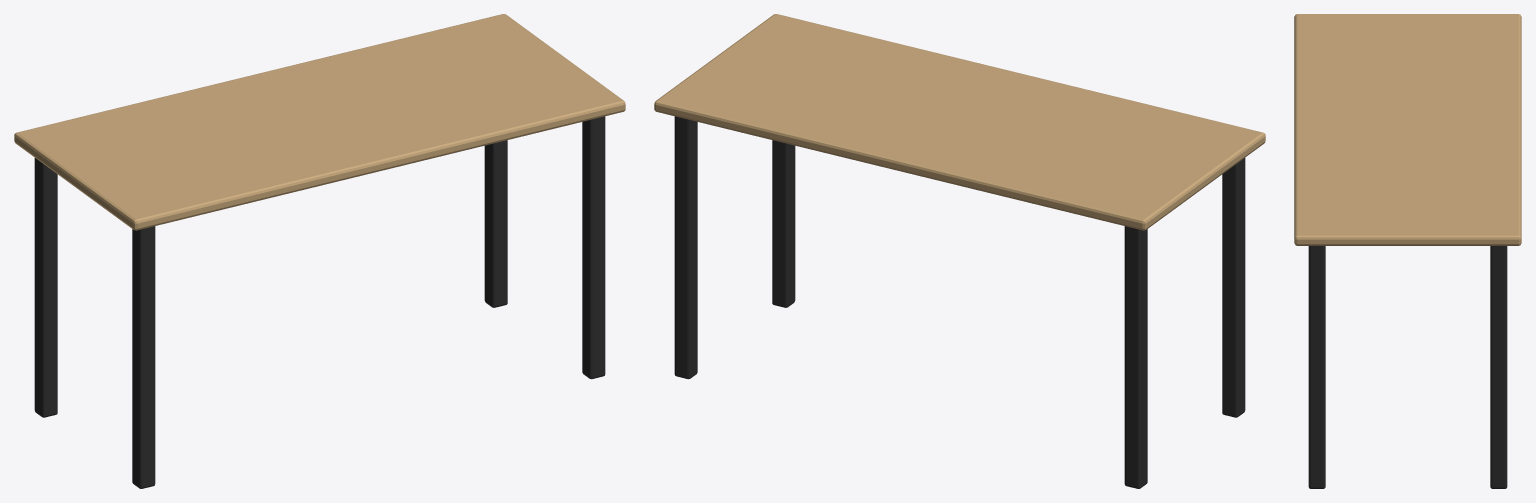
The model's file is desk.glb.
3 renders of one model, left to right at view 1: azimuth 30°, elevation 25°; view 2: azimuth 150°, elevation 25°; view 3: azimuth 270°, elevation 25°, orthographic. The views are drawn at different scales.
Visible parts, largest first — view 1: top.005, leg-1-1.009, leg1-1.009, leg-11.009, leg11.009; view 2: top.005, leg-11.009, leg11.009, leg-1-1.009, leg1-1.009; view 3: top.005, leg1-1.009, leg11.009.
Part boxes in pixels (bbox=[...]): top.005: bbox=[14, 14, 625, 230]; leg-1-1.009: bbox=[132, 226, 155, 488]; leg1-1.009: bbox=[582, 116, 605, 379]; leg-11.009: bbox=[34, 158, 57, 417]; leg11.009: bbox=[484, 140, 507, 307]; top.005: bbox=[654, 14, 1265, 230]; leg-11.009: bbox=[1124, 226, 1147, 488]; leg11.009: bbox=[674, 116, 697, 379]; leg-1-1.009: bbox=[1222, 158, 1245, 417]; leg1-1.009: bbox=[772, 140, 795, 307]; top.005: bbox=[1294, 14, 1521, 245]; leg1-1.009: bbox=[1308, 246, 1325, 488]; leg11.009: bbox=[1490, 246, 1507, 488].
Bounding box in the file's own units: 1.4 × 0.755 × 0.6.
